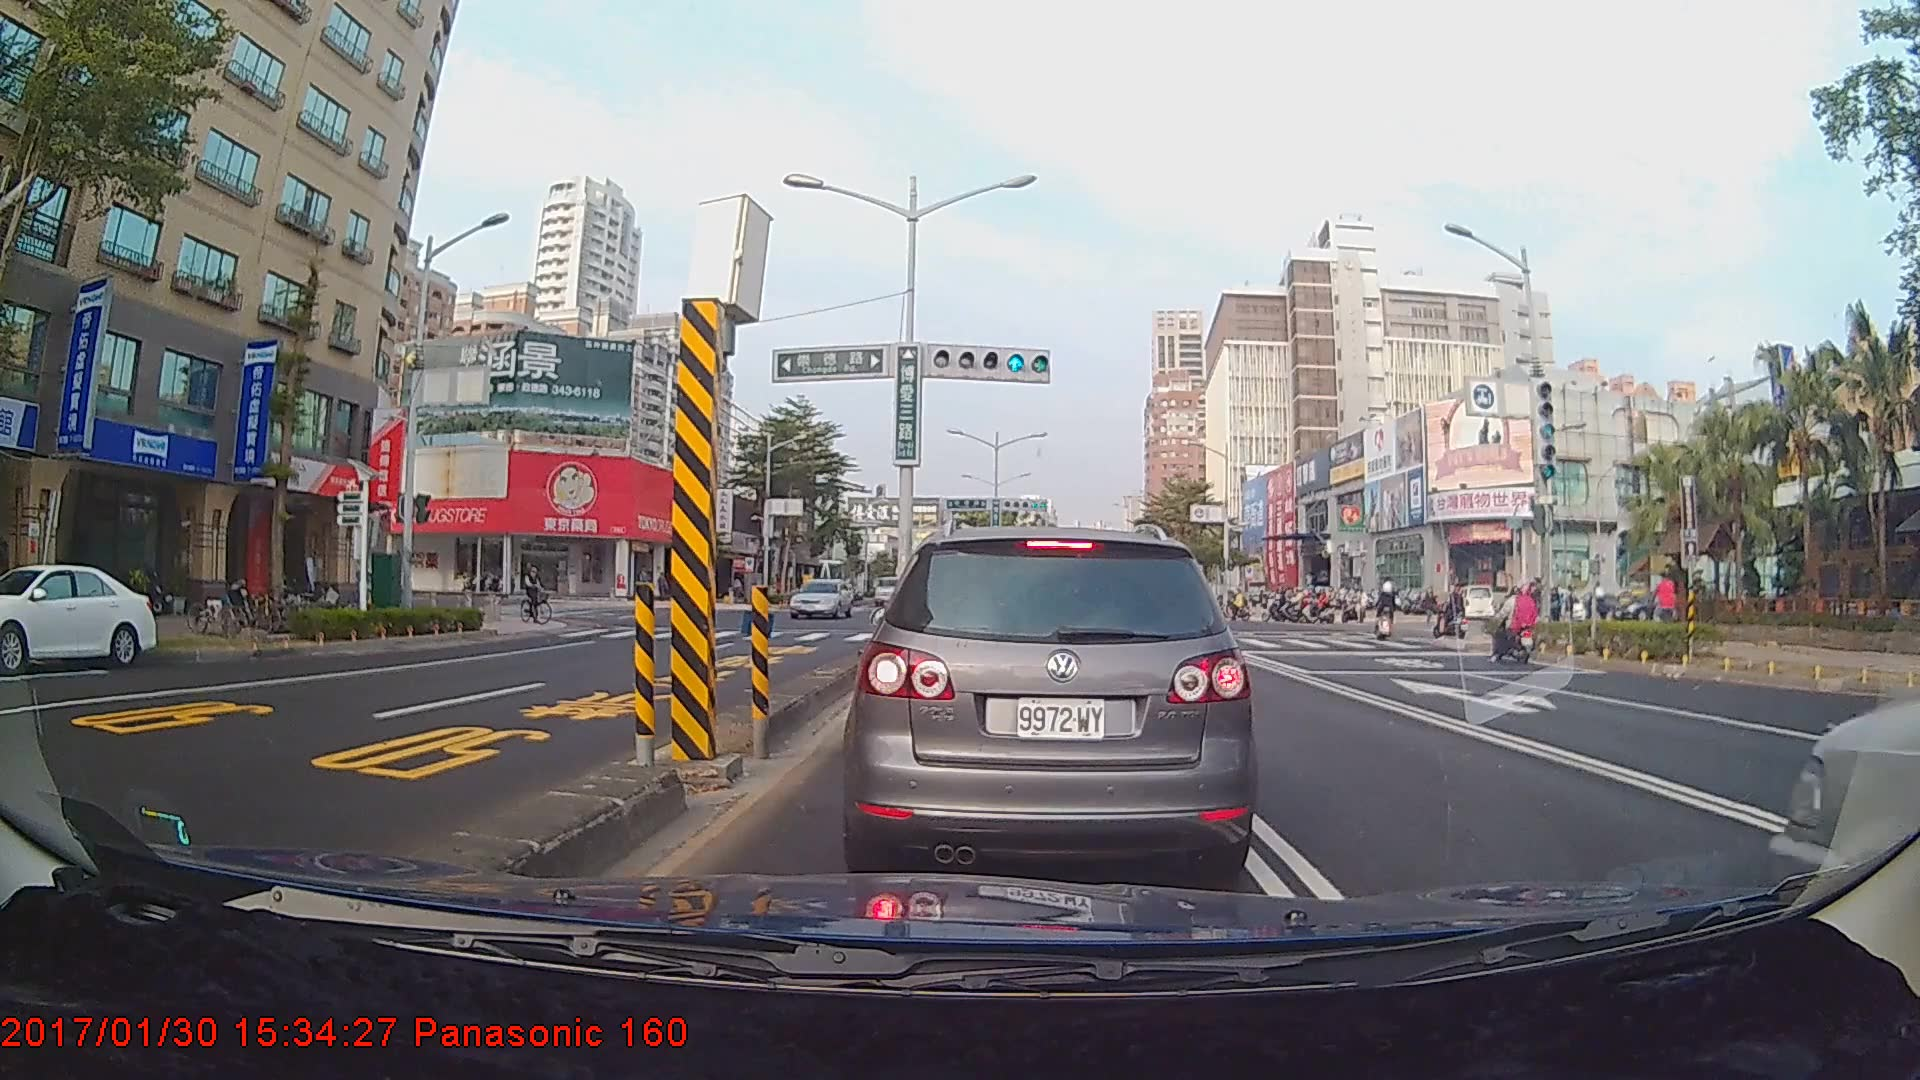rider: (1485, 582, 1548, 668), (518, 559, 561, 629), (1645, 566, 1683, 634), (1436, 582, 1473, 646), (1368, 574, 1403, 638), (1376, 582, 1406, 642), (1588, 582, 1615, 621)
vehicle: (854, 522, 1250, 880), (0, 561, 157, 671), (790, 576, 853, 621), (870, 576, 905, 604)
